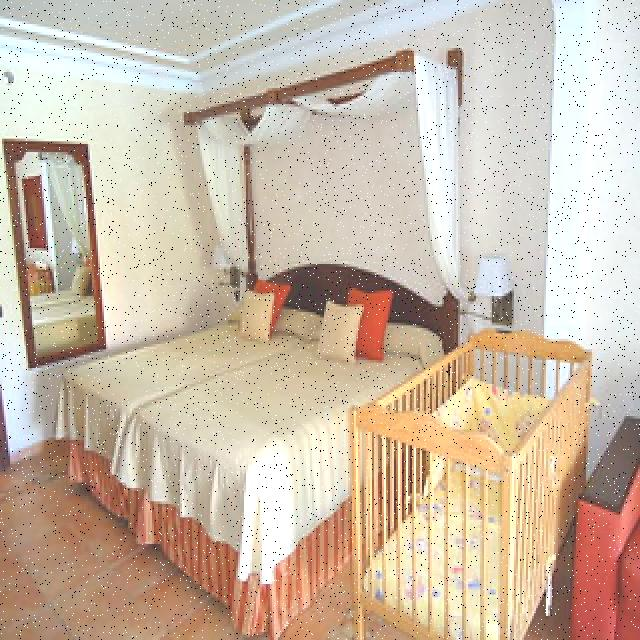bed: (64, 250, 452, 531)
